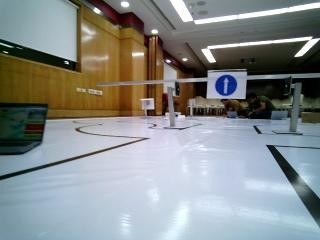straight: (206, 72, 248, 98)
